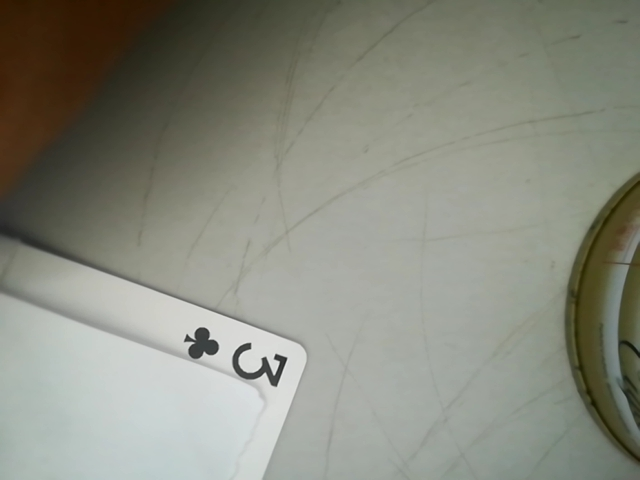mh 3: (175, 318, 298, 386)
